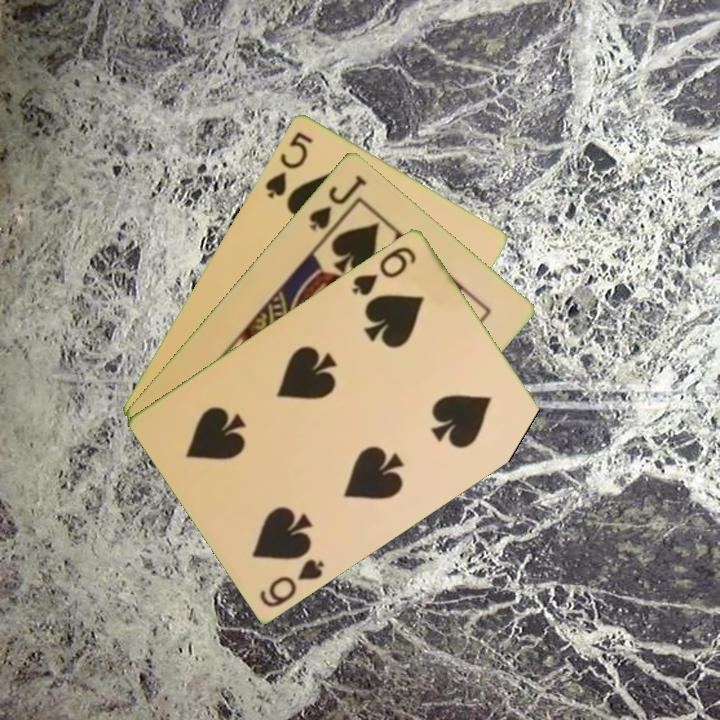5s: (261, 127, 316, 201)
6s: (348, 242, 420, 299), (256, 554, 328, 610)
Js: (305, 170, 370, 233)
